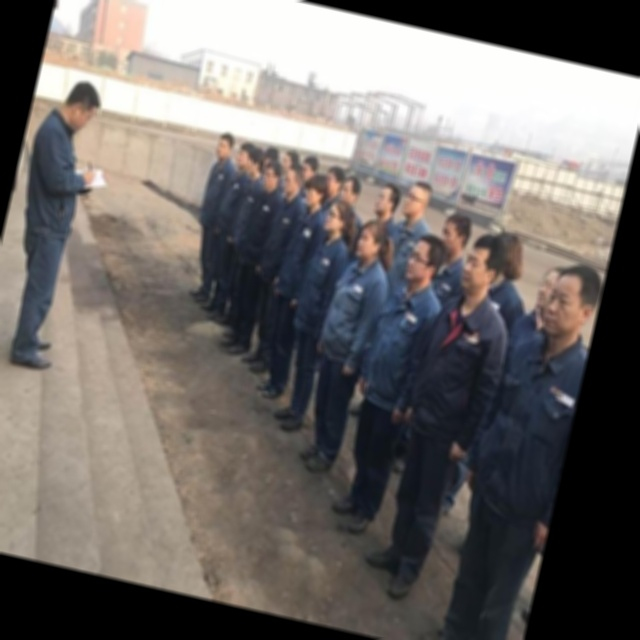Sin_Casco_Mascarrilla: (400, 231, 450, 296), (55, 76, 105, 137), (353, 218, 392, 262)
